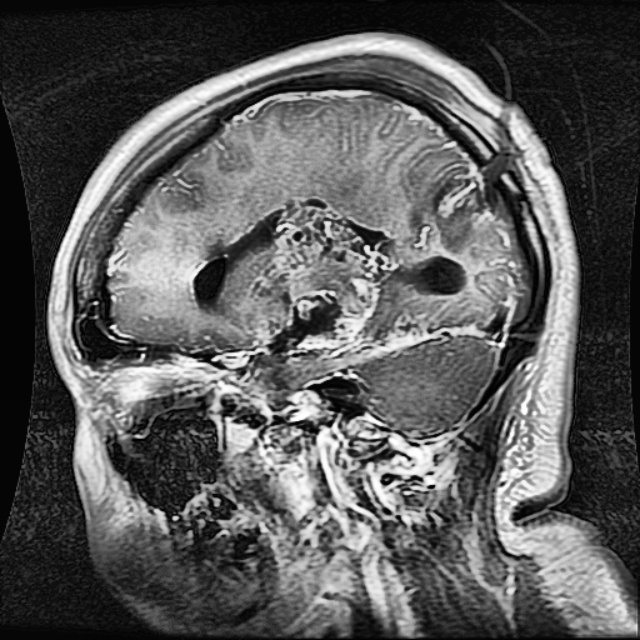Meningioma: (194, 198, 468, 355)
